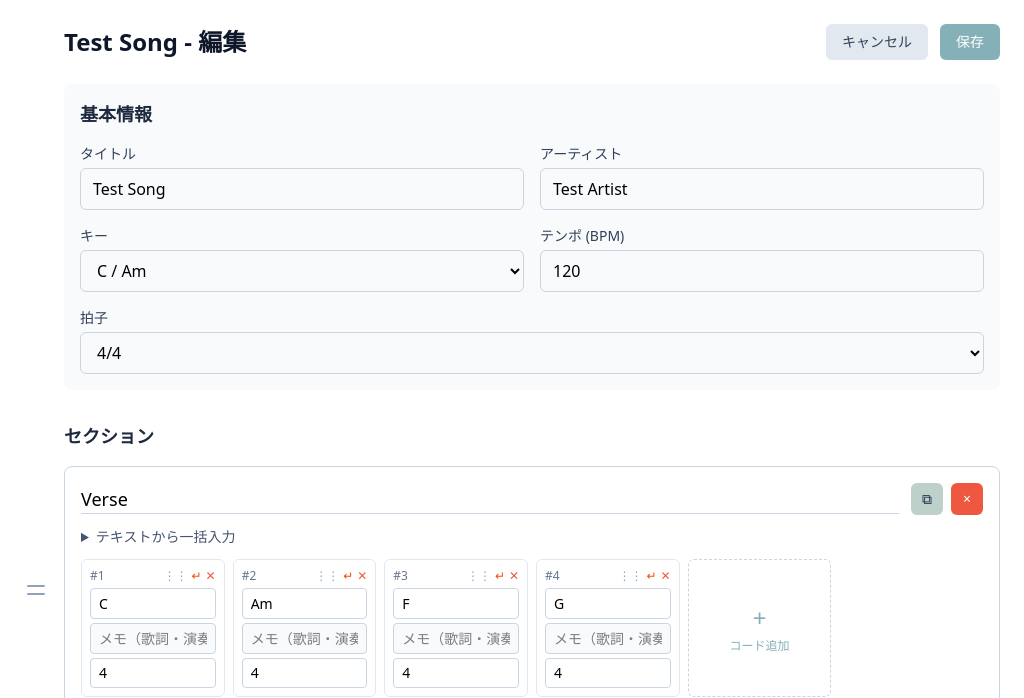
Test: ChordChartEditor › バリデーション機能 › 無効な拍数（0.5刻みでない）でバリデーションエラーを表示する
無効な拍数を入力
Replace the text in the 1st number field with placeholder "拍数" with "1.3": (153, 673) 90,658 -> 216,688
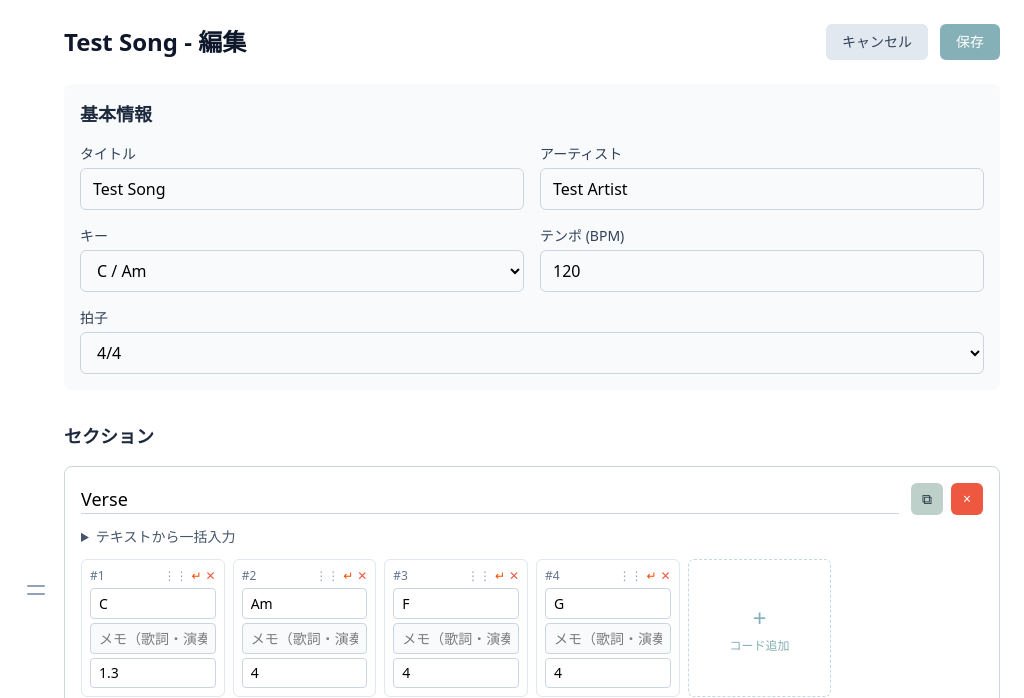
保存ボタンをクリック
Click the button with test id "editor-save-button": (970, 42) 940,24 -> 1000,60
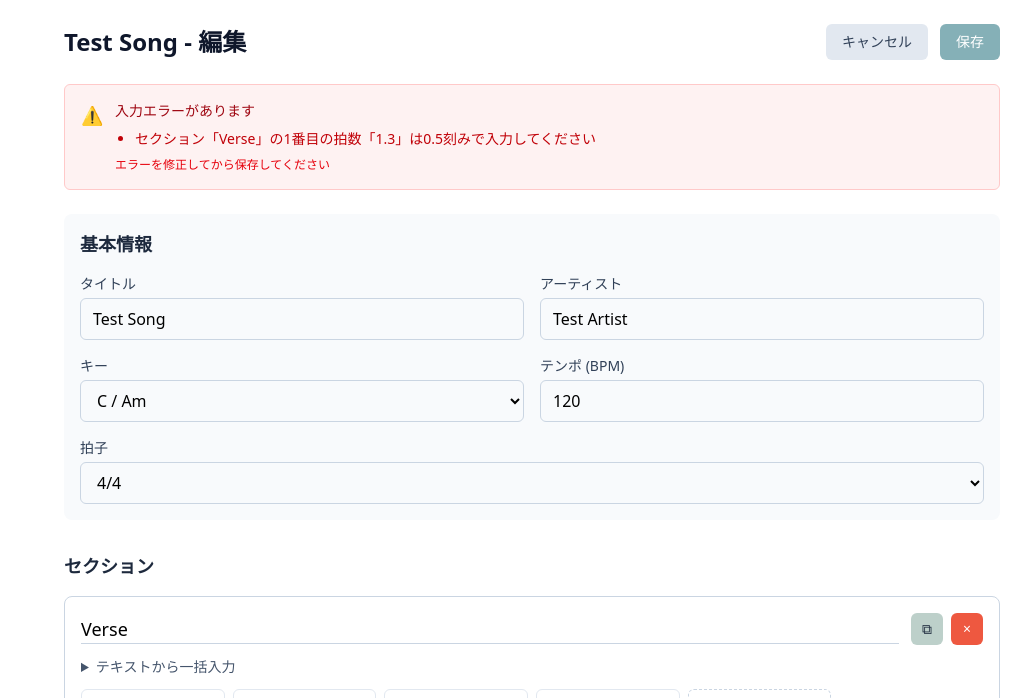
Expected: the heading "入力エラーがあります" is shown, 115,101 -> 255,120
Expected: the list item "セクション「Verse」の1番目の拍数「1.3」は0.5刻みで入力してください" is shown, 135,129 -> 596,149
